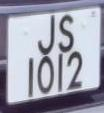0: (36, 55, 57, 98)
1: (55, 52, 67, 96)
2: (64, 50, 86, 92)
J: (35, 14, 59, 59)
S: (56, 11, 75, 54)
